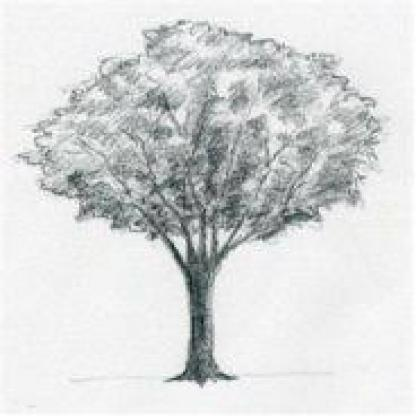crown_dizzy: (17, 21, 391, 241)
root_upside: (164, 366, 238, 394)
trunk_bark: (182, 280, 220, 364)
